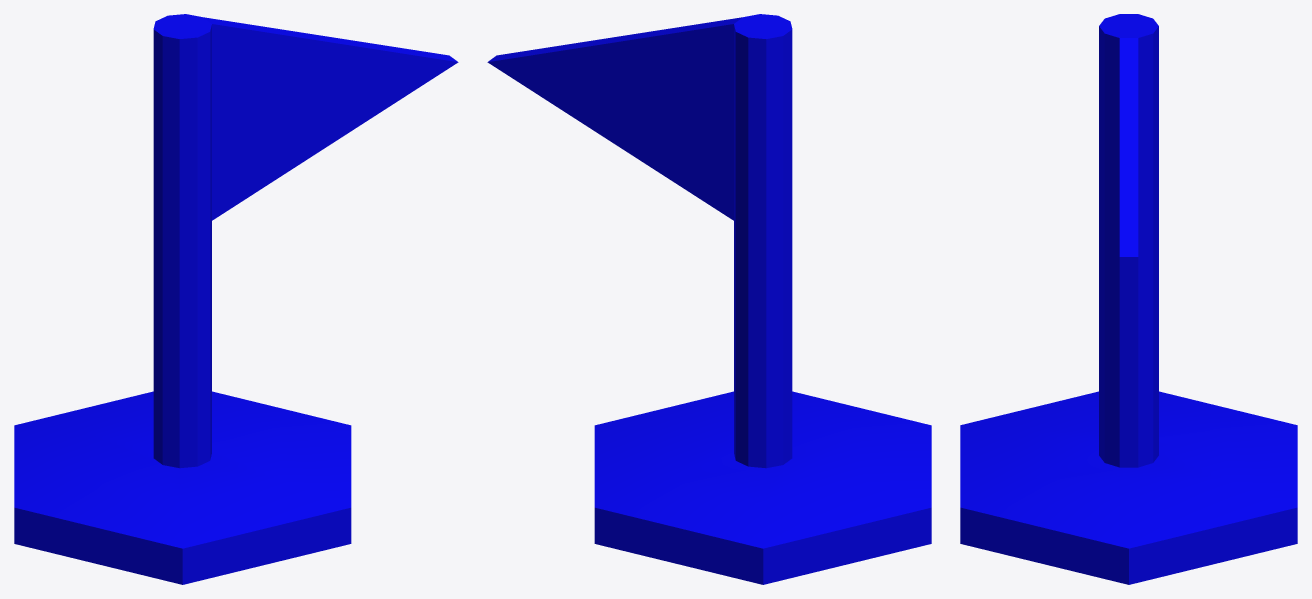
Rendered from Game_Piece_Flag_Blue_01.fbx.
The picture shows the model from 3 angles, left to right: view 1: azimuth 30°, elevation 25°; view 2: azimuth 150°, elevation 25°; view 3: azimuth 270°, elevation 25°; orthographic projection.
Parts seen in each view (by area): view 1: Game_Piece_Flag_Blue_01; view 2: Game_Piece_Flag_Blue_01; view 3: Game_Piece_Flag_Blue_01.
Boxes of the visible parts, x1,y1,x2,y2 form: Game_Piece_Flag_Blue_01: [14, 14, 458, 584]; Game_Piece_Flag_Blue_01: [487, 14, 931, 584]; Game_Piece_Flag_Blue_01: [960, 14, 1297, 584].
Bounding box in the file's own units: 20.49 × 21.21 × 13.6.
